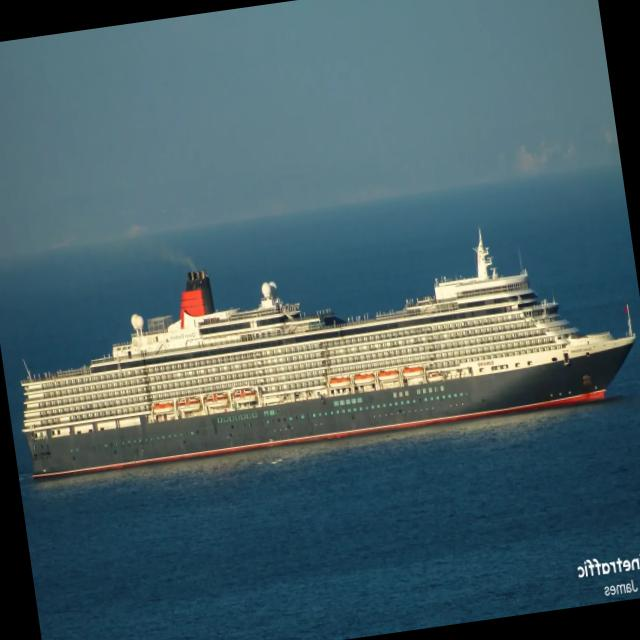Cruise: (22, 231, 635, 480)
